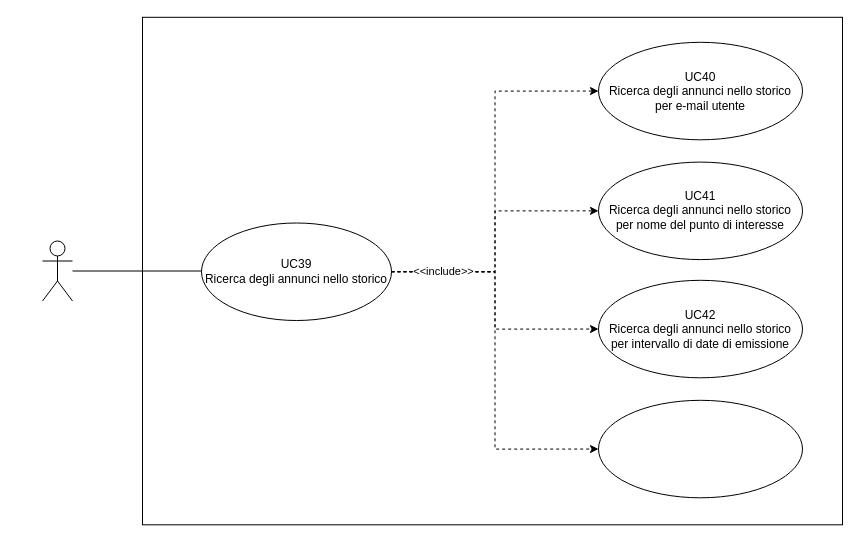
The diagram is 860 pixels wide and 543 high, and some of its shapes have lost their labels. The centre of each missing label's shape, as x and y in pixels:
Amministratore: the point at 57,270
UC43 Ricerca degli annunci nello storico per fascia oraria di emissione: the point at 700,448
